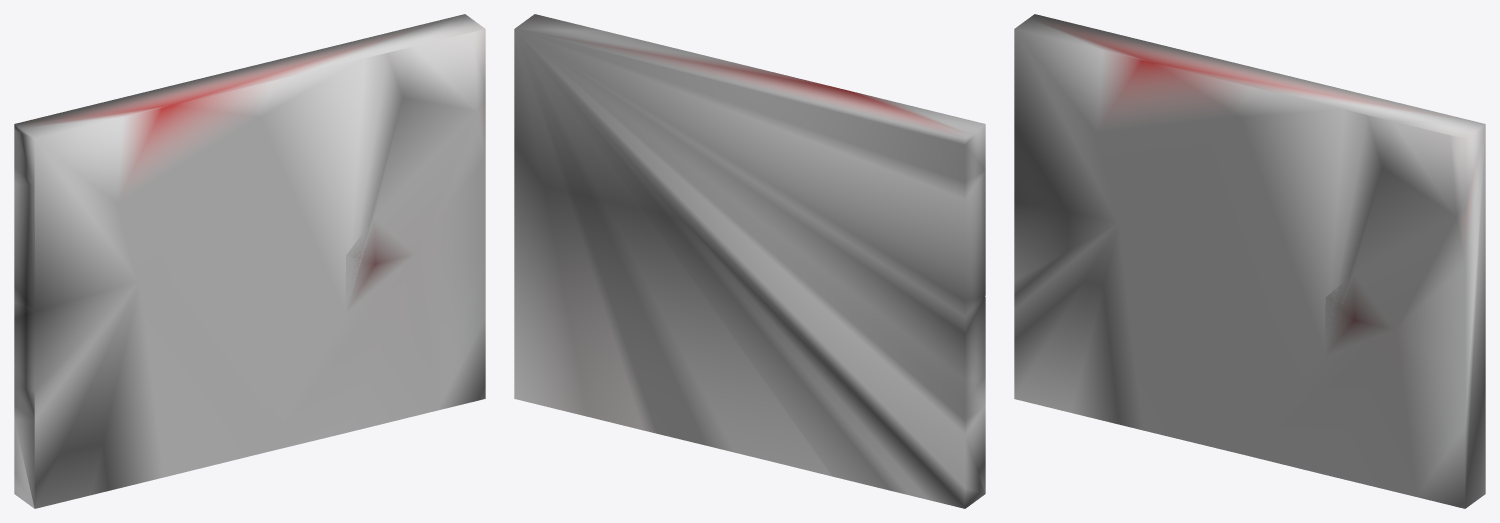
The model's file is SM_FA_Factory_W255_H200.fbx.
The picture shows the model from 3 angles, left to right: view 1: azimuth 30°, elevation 25°; view 2: azimuth 150°, elevation 25°; view 3: azimuth 330°, elevation 25°; orthographic projection.
Parts seen in each view (by area): view 1: SM_FA_Factory_W255_H200; view 2: SM_FA_Factory_W255_H200; view 3: SM_FA_Factory_W255_H200.
Part boxes in pixels (box(x1,y1,x2,y2)): SM_FA_Factory_W255_H200: box(14, 14, 485, 508); SM_FA_Factory_W255_H200: box(514, 14, 985, 508); SM_FA_Factory_W255_H200: box(1014, 14, 1485, 508).
Size of the model in its own units: 255 by 20 by 200.
